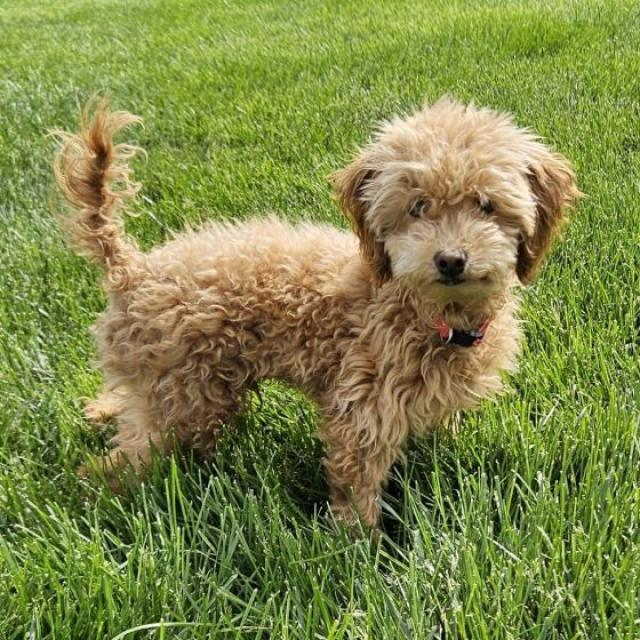Poodle_dog: (329, 93, 584, 323)
